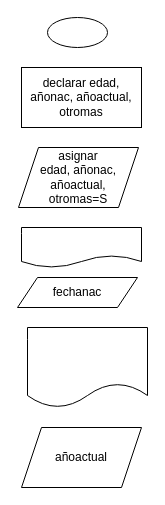
This 165x505 diagram has some shape labels left out. The centre of each missing label's shape, as x and y in pixels:
"ingresa añoactual" belongs at [87,367].
"ingresa fecha nac" belongs at [81,247].
